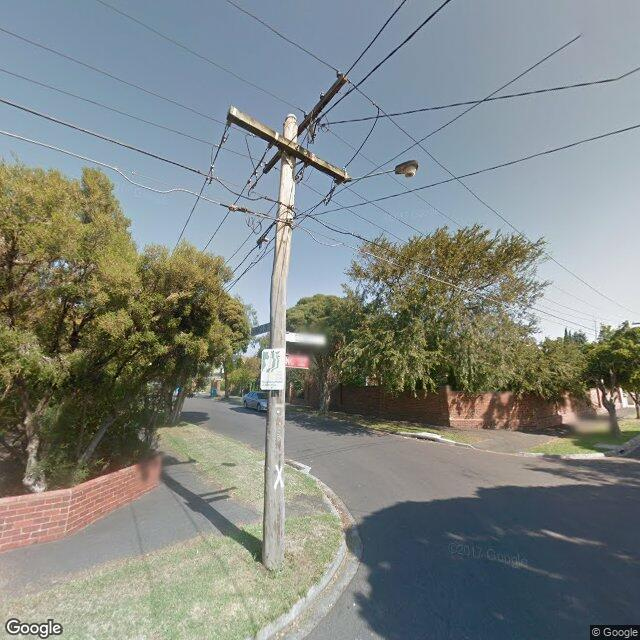crossarm: (228, 105, 346, 184), (262, 73, 348, 175)
streetlight: (349, 160, 419, 182)
timber-pole: (261, 113, 298, 572)
